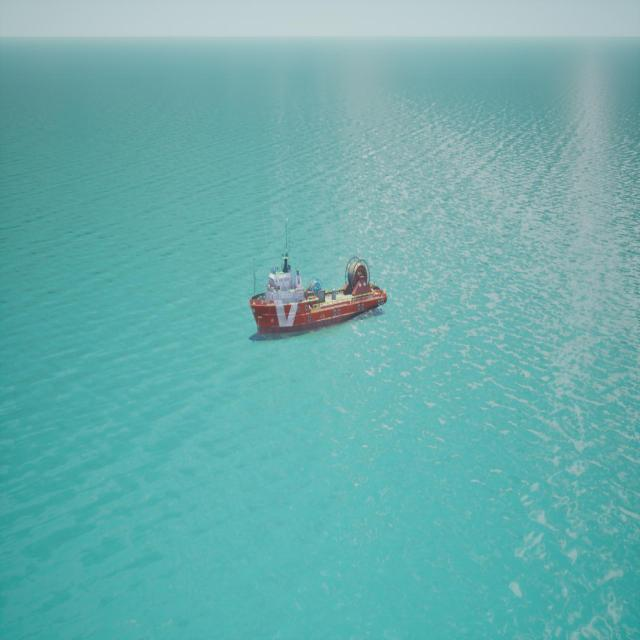tug boat: (247, 217, 387, 345)
